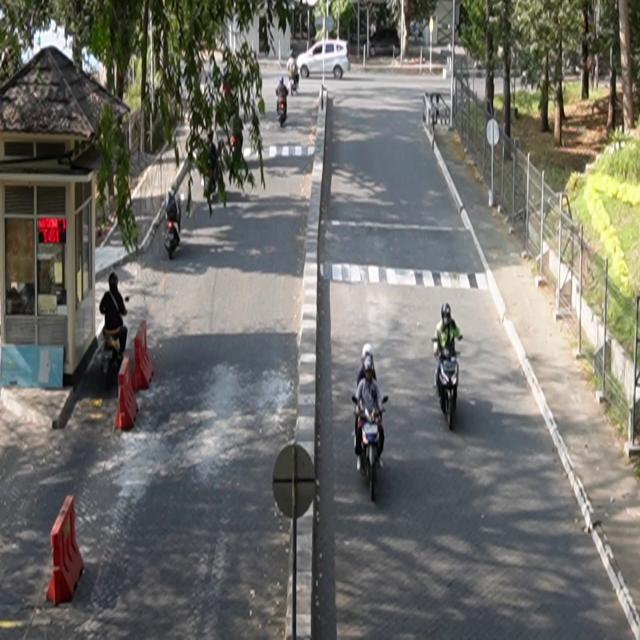car: (297, 40, 351, 81)
